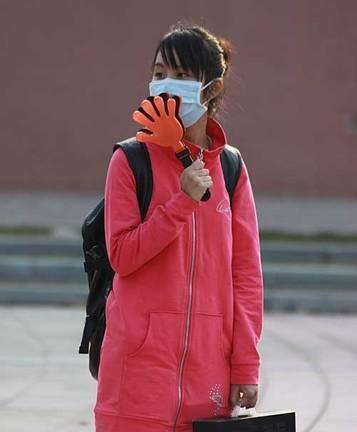OK: (150, 55, 215, 126)
